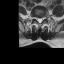CCS_normal: (38, 15, 40, 25)
LFS_normal: (42, 15, 44, 21)
LLS_normal: (40, 15, 42, 23)
RFS_normal: (34, 14, 37, 21)
RLS_normal: (37, 15, 38, 24)
